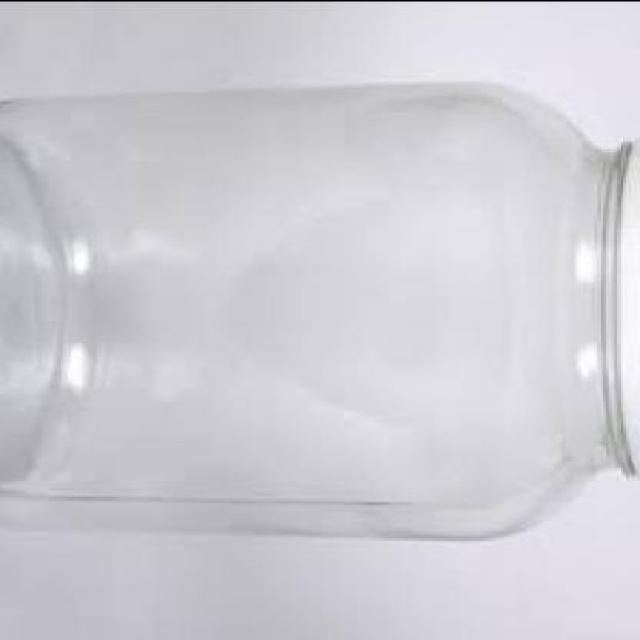GLASS: (3, 74, 631, 532)
